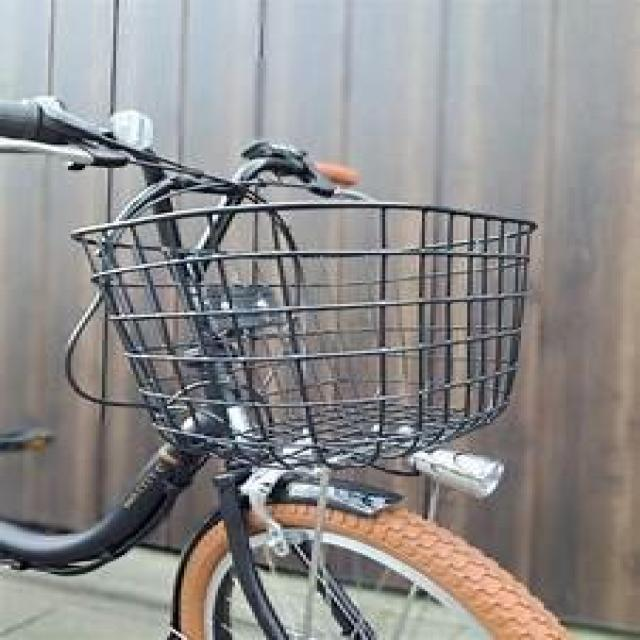basket: (66, 199, 540, 473)
